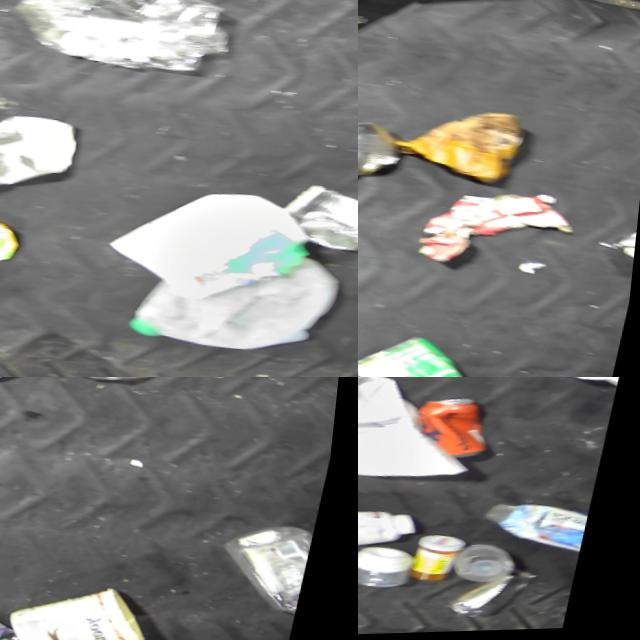can: (409, 388, 527, 470), (358, 329, 486, 377), (358, 117, 409, 188)
milk_jug: (130, 245, 344, 363)
plastic_bottle: (475, 495, 602, 558)
